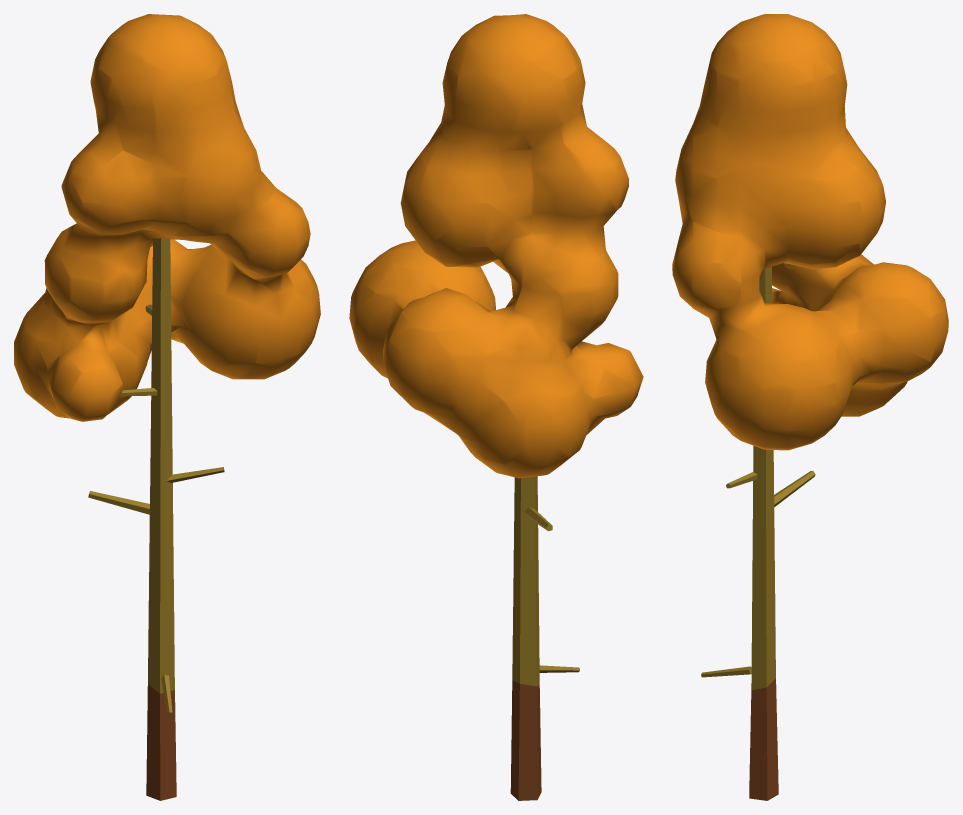
File: PINE3.fbx
The picture shows the model from 3 angles, left to right: view 1: azimuth 30°, elevation 25°; view 2: azimuth 150°, elevation 25°; view 3: azimuth 270°, elevation 25°; orthographic projection.
Parts seen in each view (by area): view 1: Mball, Cylinder; view 2: Mball, Cylinder; view 3: Mball, Cylinder.
Boxes of the visible parts, x1=… form: Mball: x1=14, y1=14, x2=320, y2=421; Cylinder: x1=88, y1=238, x2=224, y2=800; Mball: x1=349, y1=14, x2=643, y2=478; Cylinder: x1=510, y1=476, x2=579, y2=800; Mball: x1=672, y1=14, x2=948, y2=450; Cylinder: x1=701, y1=266, x2=815, y2=800.
Size of the model in its own units: 1109 by 3059 by 986.
